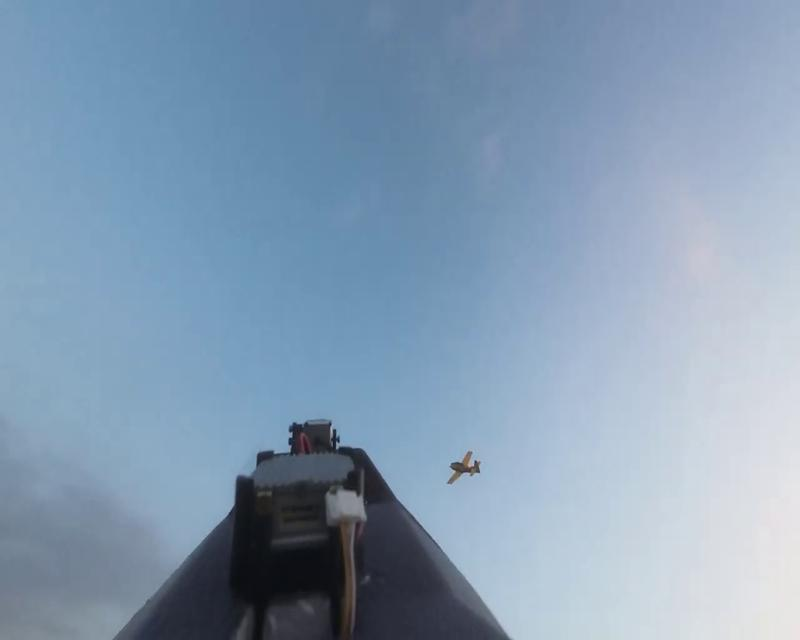UAV: (446, 450, 481, 484)
